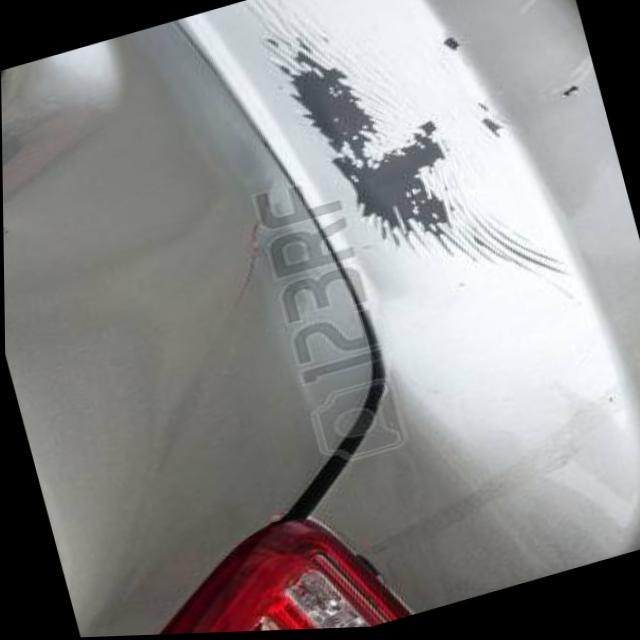Scratch: (254, 22, 545, 272)
